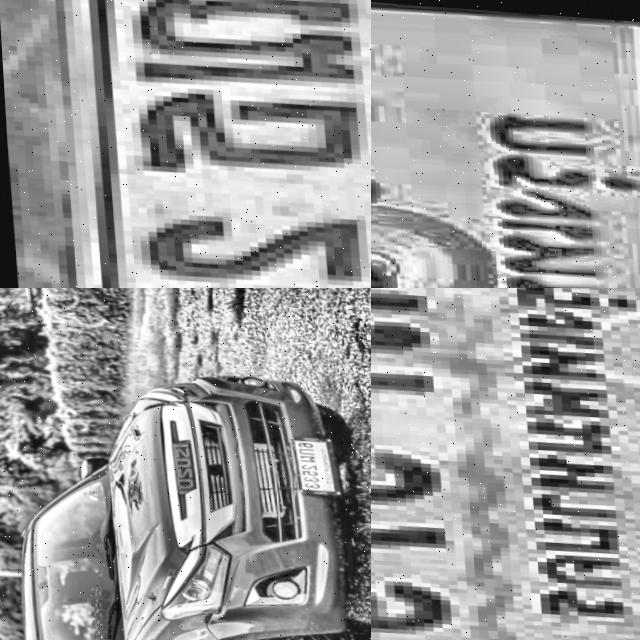license-plate: (0, 0, 371, 288), (371, 288, 640, 640), (371, 0, 640, 288), (280, 427, 352, 496)
